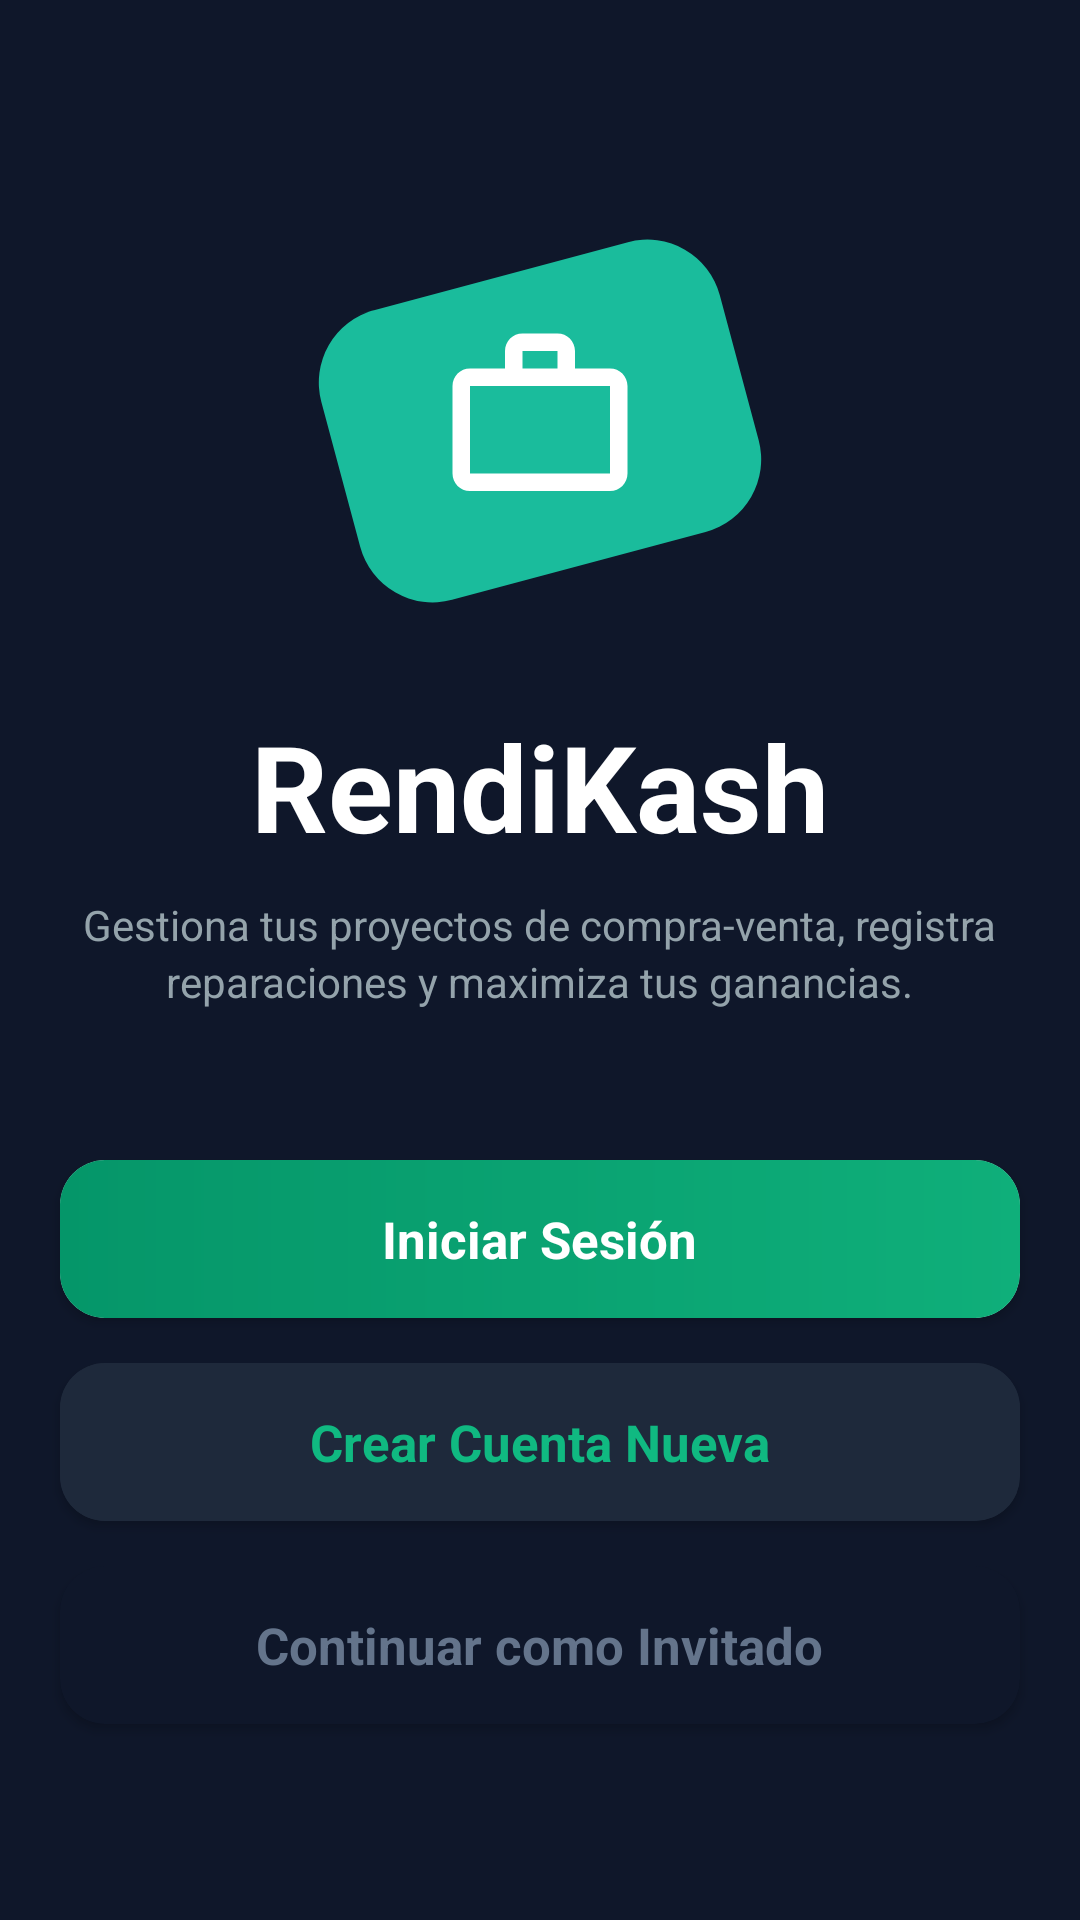

Where icons sit on this 1080 × 1920 app screen, as (x1,y1,x2,y2):
briefcase: (452,333,628,491)
